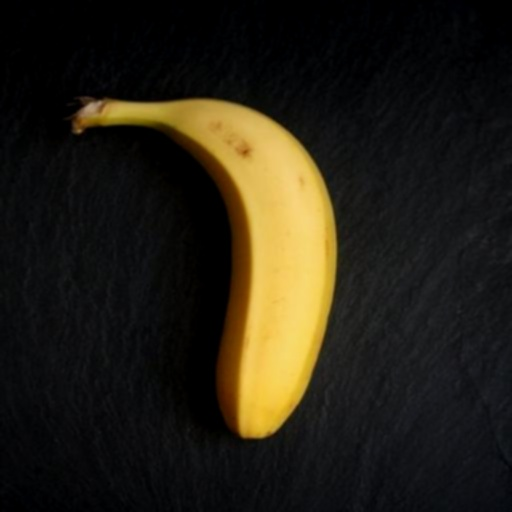fruit: (237, 124, 429, 476)
